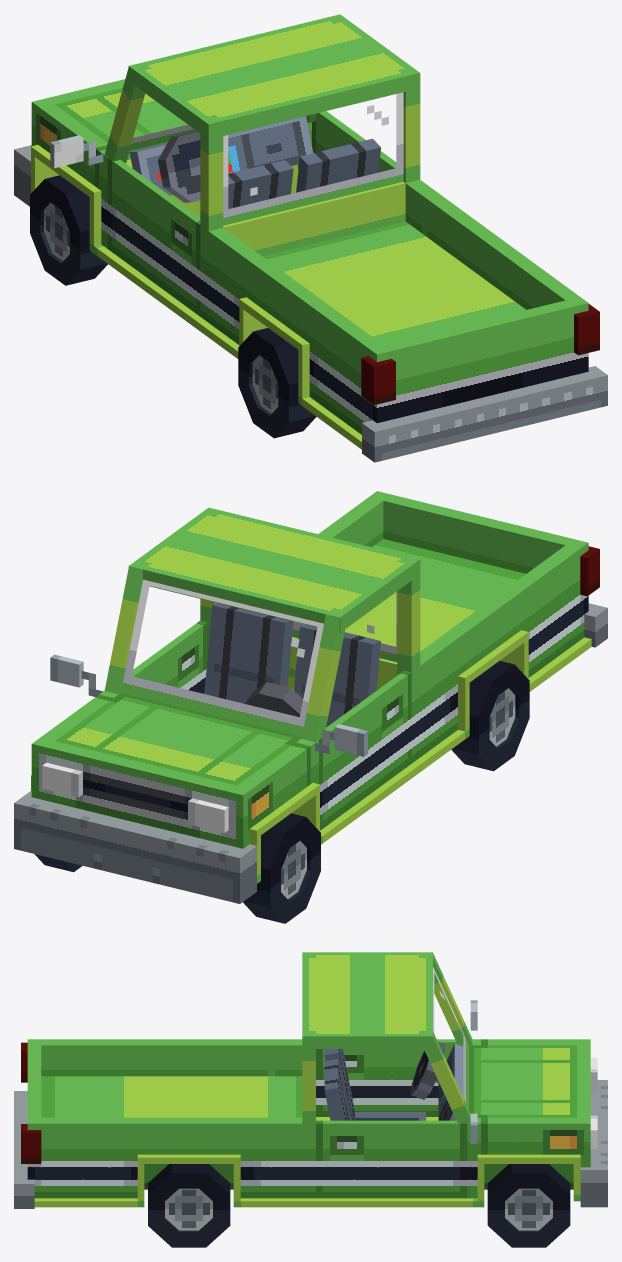
Rendered from pickup-green.gltf.
The picture shows the model from 3 angles, top to bottom: view 1: azimuth 30°, elevation 25°; view 2: azimuth 150°, elevation 25°; view 3: azimuth 270°, elevation 25°; orthographic projection. The views are drawn at different scales.
Parts seen in each view (by area): view 1: cube (×37), tube (×2), cylinder (×3); view 2: cube (×37), tube (×2), cylinder (×3); view 3: cube (×37), tube (×2), cylinder (×3).
Boxes of the visible parts, bbox=[...] form: cube (×37): bbox=[14, 14, 607, 462]; tube (×2): bbox=[30, 175, 316, 438]; cylinder (×3): bbox=[44, 131, 278, 413]; cube (×37): bbox=[14, 491, 607, 903]; tube (×2): bbox=[243, 661, 529, 923]; cylinder (×3): bbox=[245, 682, 515, 899]; cube (×37): bbox=[14, 952, 607, 1208]; tube (×2): bbox=[148, 1164, 570, 1247]; cylinder (×3): bbox=[165, 1042, 552, 1230].
Bounding box in the file's own units: 2.15 × 1.65 × 4.32.
Materials: 2 (2 with a texture image).
